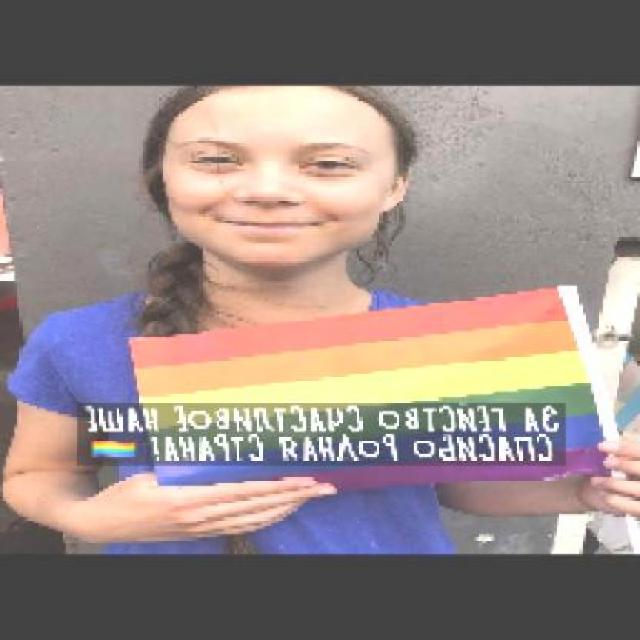child: (5, 83, 640, 554)
